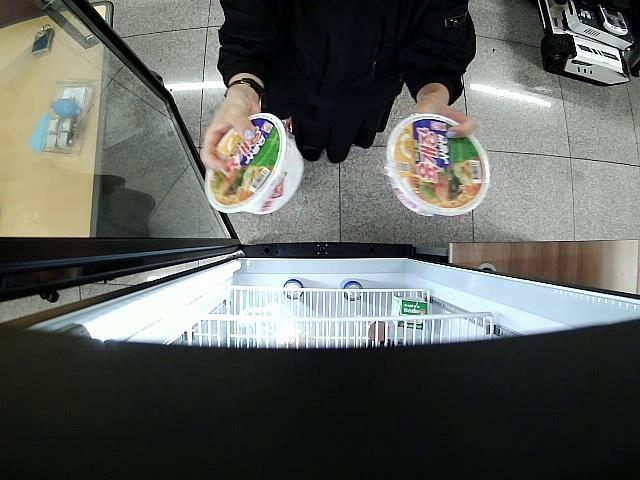09_yukGaeJang: (386, 115, 489, 218), (208, 116, 304, 214)
